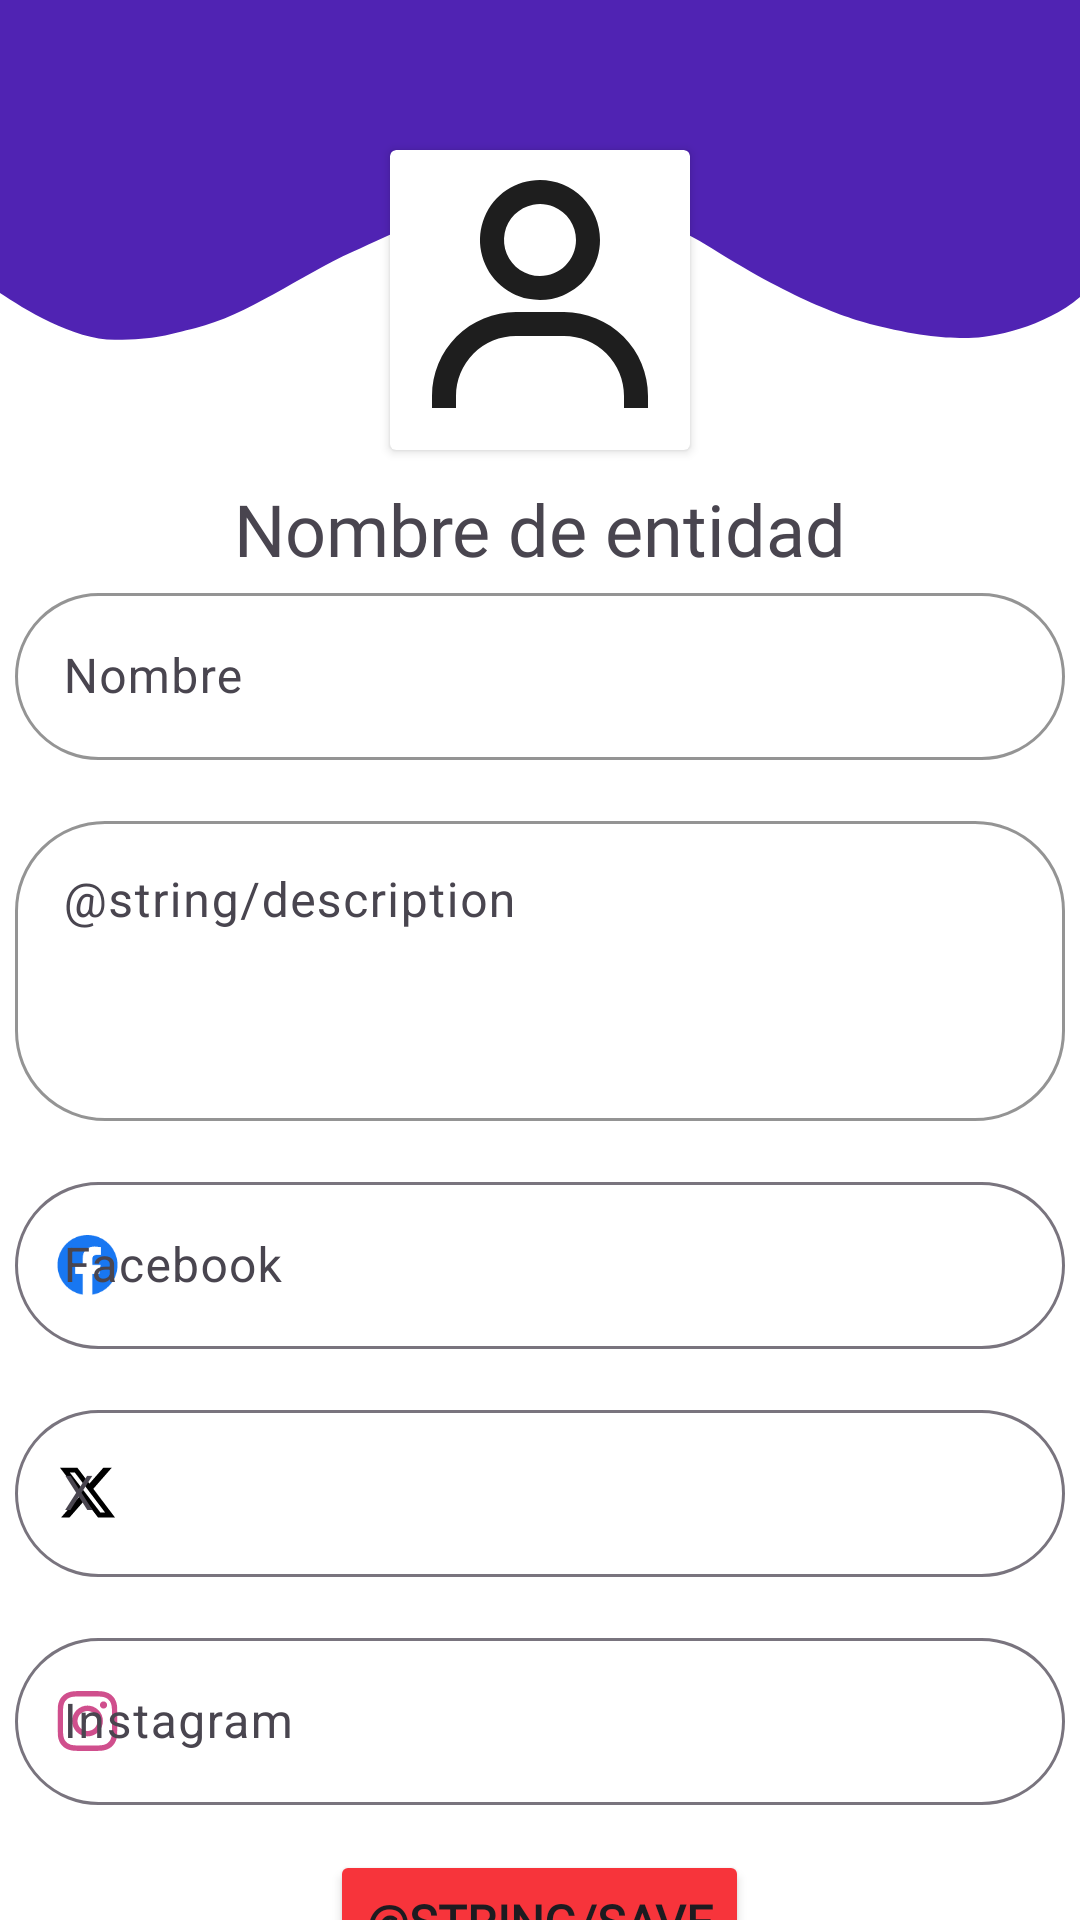

Icon click points for this 1080×1920 phone screenshot, format (x,y):
profile: (540,300)
